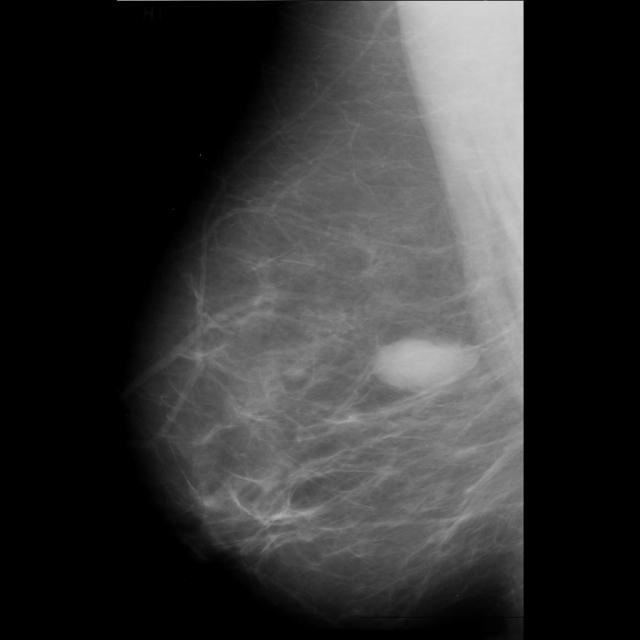CIRC: (372, 314, 471, 413)
